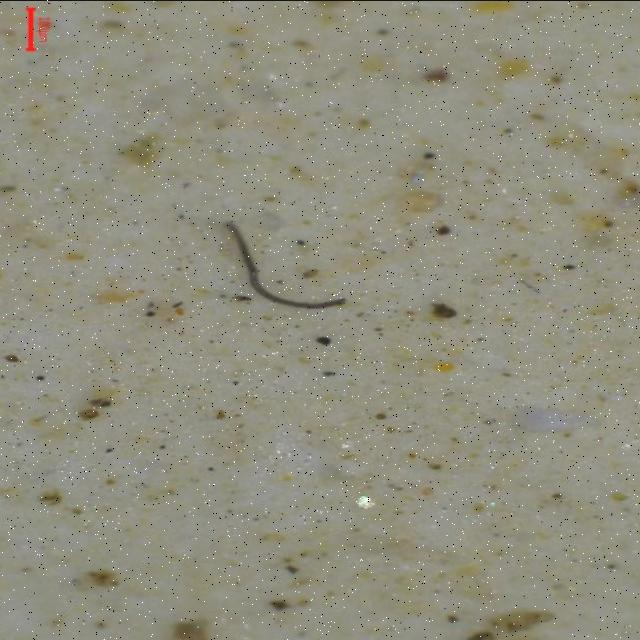Fibre: (218, 203, 356, 314)
